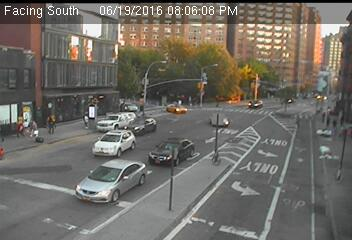neg: (287, 173, 306, 199), (279, 130, 295, 151), (253, 67, 268, 88), (223, 53, 238, 73), (137, 191, 151, 210), (170, 131, 184, 149), (233, 203, 246, 221), (259, 41, 271, 58), (122, 160, 134, 176), (175, 74, 187, 90), (101, 138, 113, 154), (177, 208, 189, 224), (227, 10, 239, 26), (190, 19, 202, 34), (108, 100, 119, 115), (269, 156, 280, 171), (280, 83, 291, 98), (202, 141, 213, 155), (225, 127, 235, 141), (147, 85, 157, 99), (195, 72, 205, 85), (127, 118, 136, 130), (100, 32, 109, 44), (151, 27, 159, 37), (70, 49, 77, 58), (70, 156, 77, 165), (266, 122, 272, 130), (89, 176, 95, 184), (103, 61, 109, 68)
pos: (41, 110, 60, 135), (25, 116, 41, 137), (11, 119, 25, 138), (81, 110, 94, 127), (331, 118, 341, 131), (324, 114, 334, 127), (320, 110, 328, 121)
